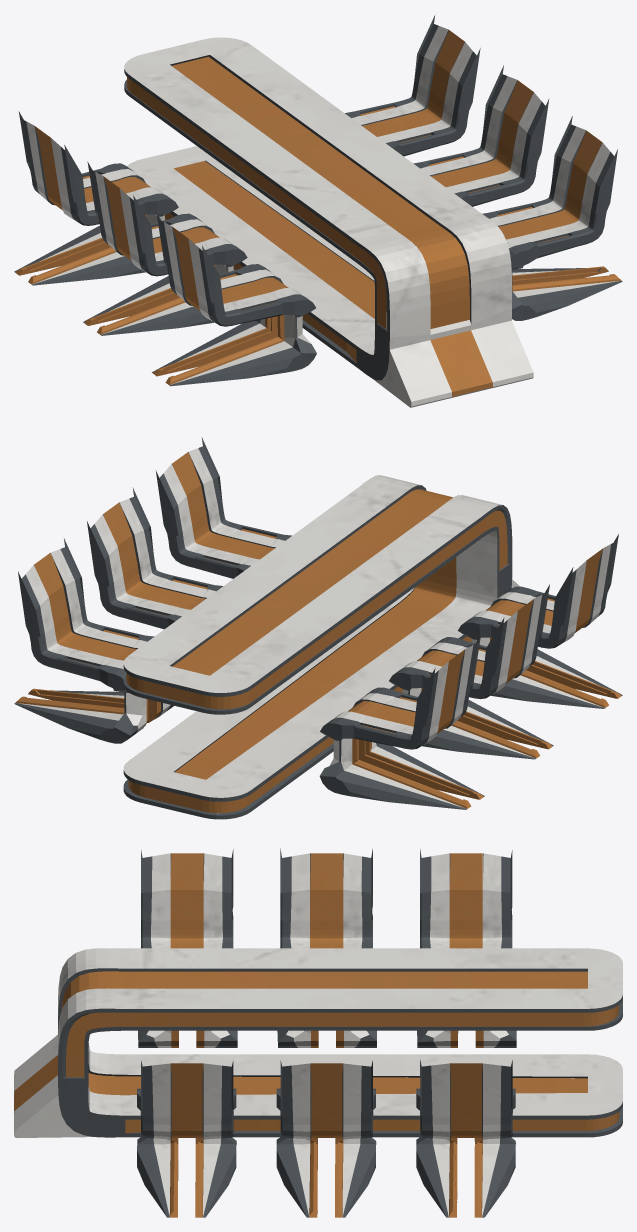
Rendered from table-chairs.glb.
3 views of the same model, one above another, from view 1: azimuth 30°, elevation 25°; view 2: azimuth 150°, elevation 25°; view 3: azimuth 270°, elevation 25° (orthographic).
Visible parts, largest first — view 1: Object_6, Object_5, Object_4; view 2: Object_6, Object_5, Object_4; view 3: Object_6, Object_5, Object_4.
Part boxes in pixels (left/top/right/bottom): Object_6: left=26, top=26, right=620, bottom=407; Object_5: left=15, top=30, right=621, bottom=396; Object_4: left=14, top=15, right=622, bottom=386; Object_6: left=19, top=448, right=611, bottom=819; Object_5: left=15, top=452, right=621, bottom=813; Object_4: left=14, top=437, right=622, bottom=819; Object_6: left=14, top=853, right=622, bottom=1217; Object_5: left=14, top=853, right=619, bottom=1217; Object_4: left=58, top=848, right=622, bottom=1217.
Bounding box in the file's own units: 1.52 × 0.495 × 1.75.
3 materials, 3 textured.
